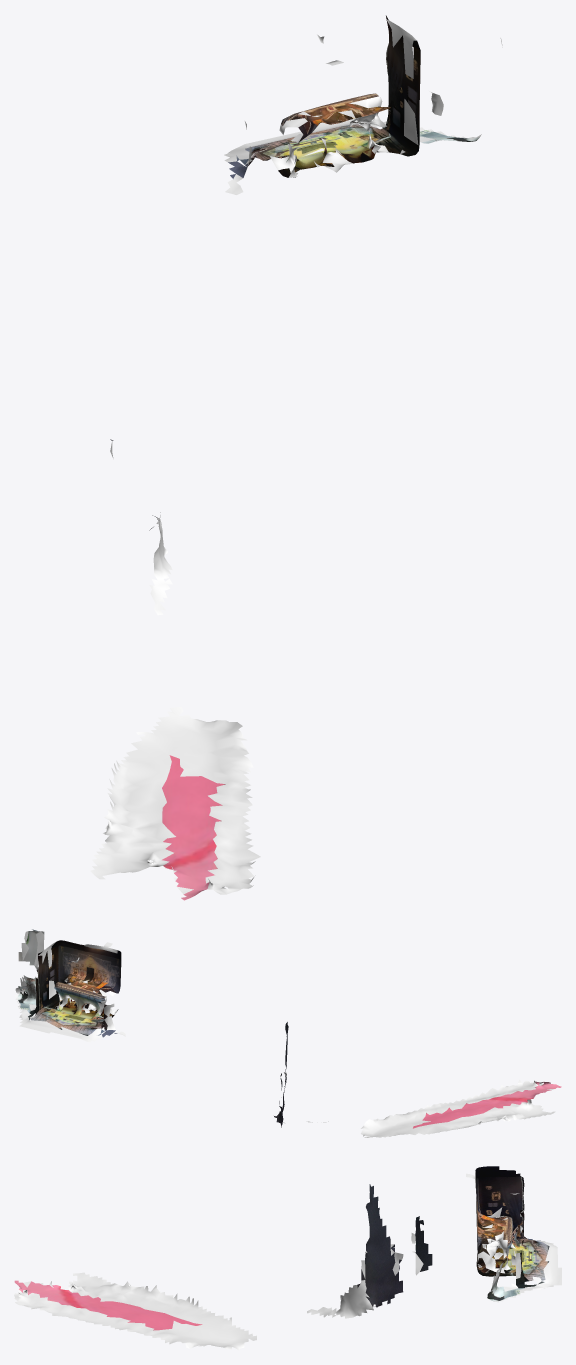
3 renders of one model, top to bottom at view 1: azimuth 30°, elevation 25°; view 2: azimuth 150°, elevation 25°; view 3: azimuth 270°, elevation 25°, orthographic. The views are drawn at different scales.
Visible parts, largest first — view 1: object 1, texture_0; view 2: texture_0, object 1; view 3: texture_0, object 1.
Boxes of the visible parts, x1=… form: object 1: x1=90, y1=19, x2=502, y2=894; texture_0: x1=110, y1=15, x2=478, y2=900; texture_0: x1=17, y1=929, x2=561, y2=1128; object 1: x1=14, y1=931, x2=555, y2=1137; texture_0: x1=14, y1=1166, x2=549, y2=1330; object 1: x1=14, y1=1171, x2=561, y2=1350.
Size of the model in its own units: 2.48 by 1.41 by 2.62.
Materials: 2 (1 with a texture image).
